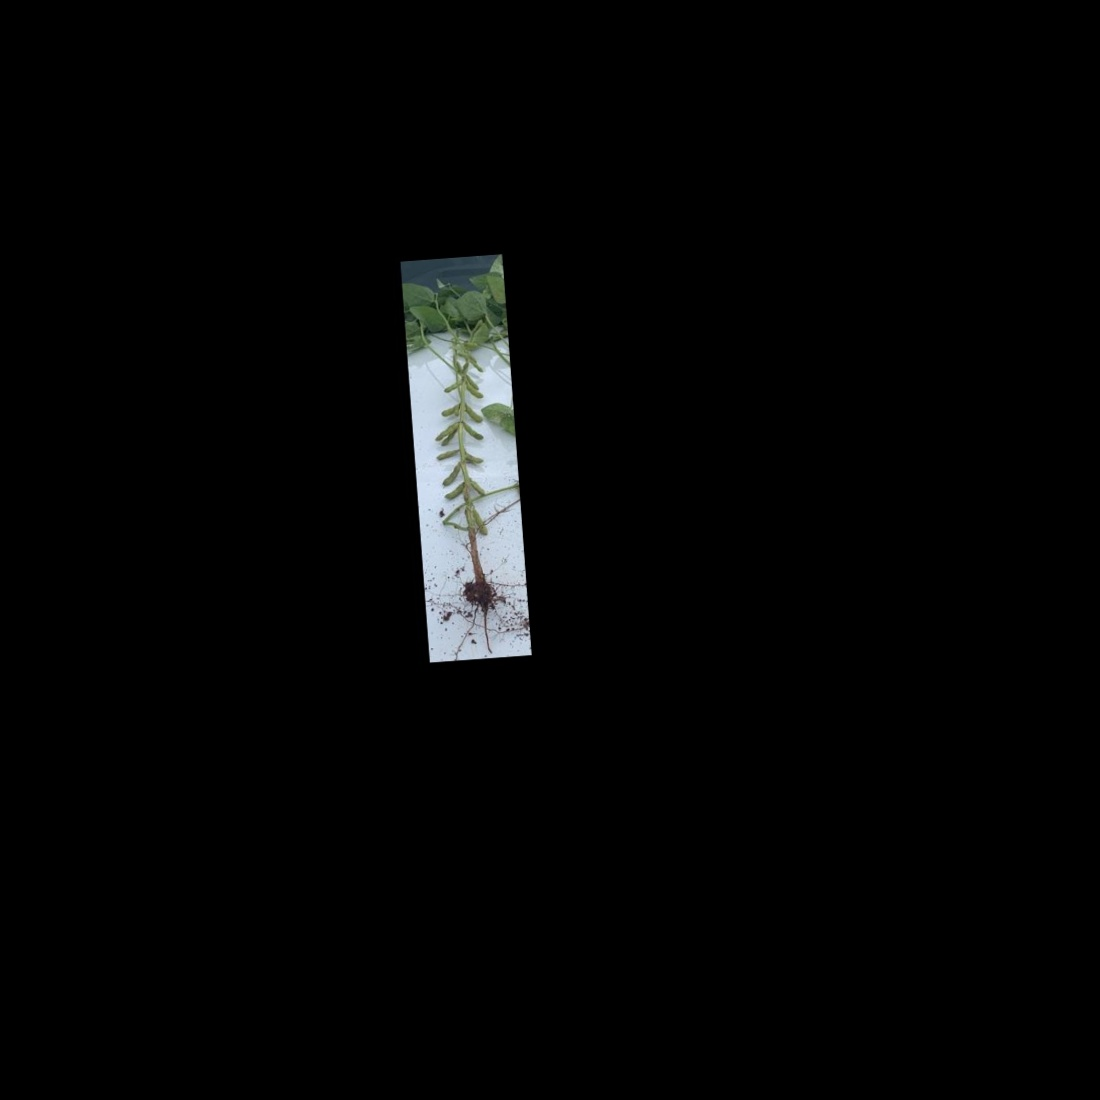pod: (438, 460, 464, 487), (460, 418, 486, 444), (432, 419, 459, 442), (472, 508, 492, 537), (462, 376, 483, 402), (429, 448, 463, 463), (466, 476, 488, 499), (443, 483, 465, 503), (463, 450, 487, 466), (437, 402, 458, 417), (442, 378, 458, 393)
soy: (407, 281, 524, 617)
